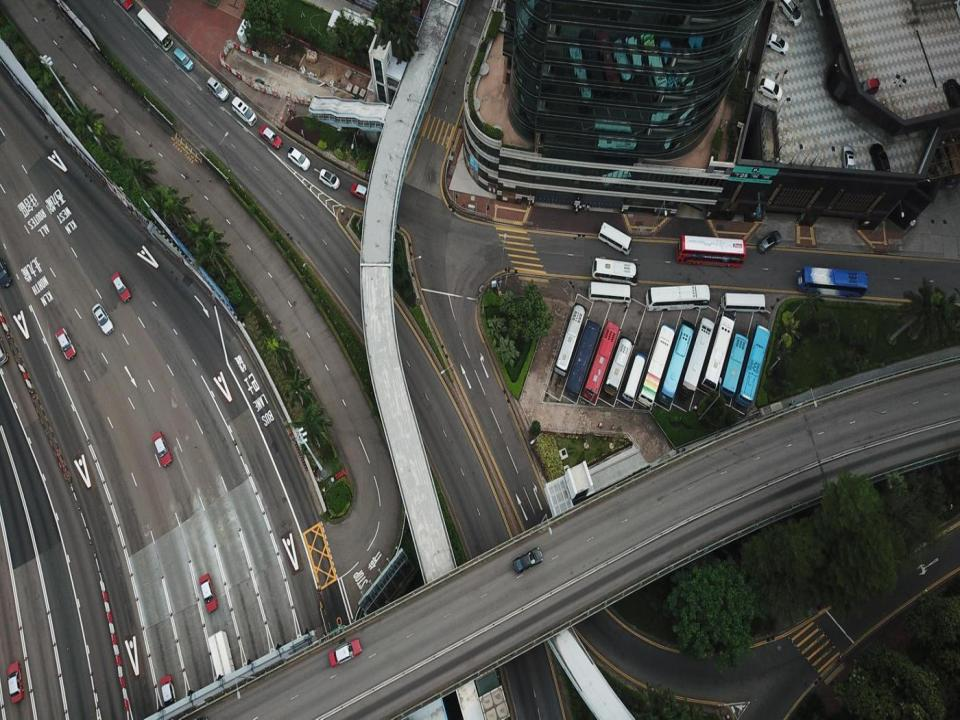bus: (582, 318, 623, 400), (677, 317, 717, 400), (638, 322, 675, 408), (658, 319, 695, 405), (732, 324, 770, 406), (699, 310, 735, 393), (565, 316, 601, 398), (554, 302, 589, 376), (797, 267, 869, 299), (675, 235, 746, 267), (602, 332, 636, 395), (719, 332, 748, 397), (646, 284, 710, 312), (137, 7, 174, 51), (622, 351, 646, 403), (597, 222, 632, 255), (588, 280, 631, 304), (720, 292, 766, 312)
car: (158, 672, 177, 716), (329, 639, 361, 665), (151, 430, 173, 467), (198, 573, 218, 613), (7, 660, 25, 704), (512, 548, 543, 572), (55, 327, 77, 360), (92, 304, 114, 335), (110, 273, 132, 304), (258, 124, 283, 149), (757, 78, 782, 102), (287, 145, 310, 171), (766, 31, 789, 54), (841, 144, 856, 178), (318, 168, 340, 190), (350, 182, 374, 201), (0, 258, 12, 287), (815, 0, 830, 16), (118, 0, 134, 12)
truck: (208, 630, 240, 706)
van: (869, 142, 891, 181), (231, 96, 257, 126), (777, 1, 802, 26), (206, 76, 229, 100), (758, 230, 781, 253), (173, 47, 194, 71), (858, 78, 880, 96)
